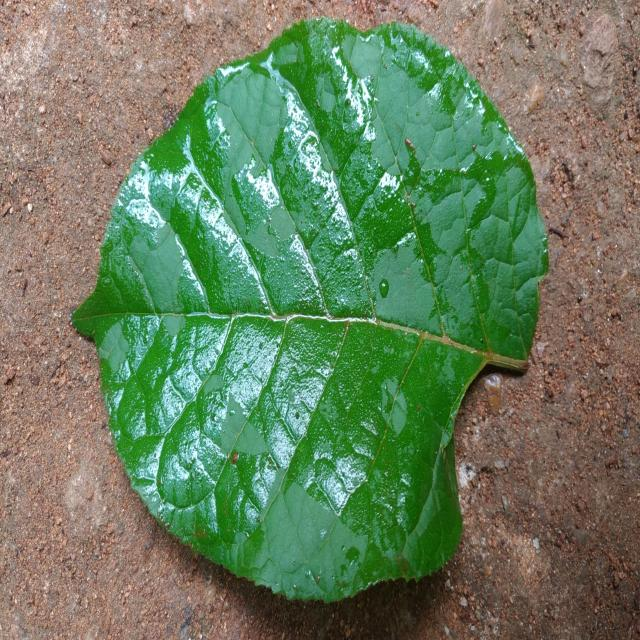padri: (72, 20, 548, 600)
